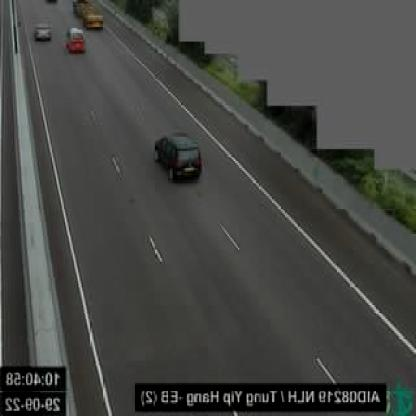Car: (154, 128, 206, 184), (64, 25, 90, 56), (34, 20, 56, 42)
Truck: (73, 0, 105, 35)
